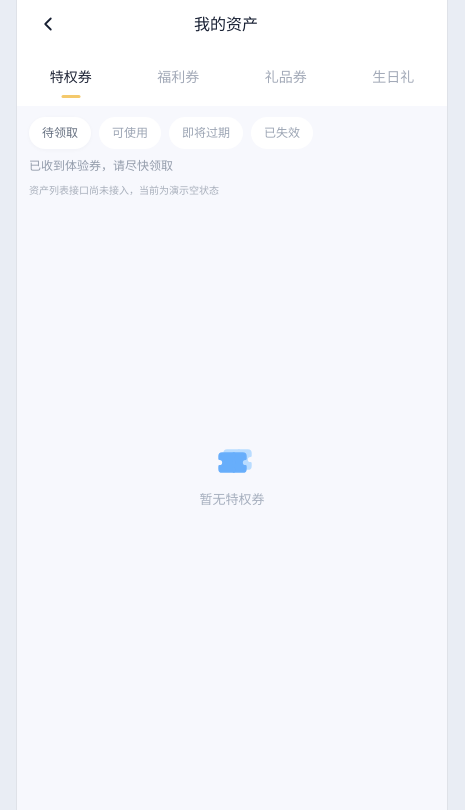
mobile assets page › switches asset categories and status filters with matching empty states
This screenshot has width=465, height=810.
Expected: the element with class "asset-empty" reads "暂无特权券", [200, 491, 264, 507]
Expected: the text with class "asset-data-note" shows "接口尚未接入", [29, 184, 219, 196]
Click the button "福利券": (178, 77) [124, 48, 232, 106]
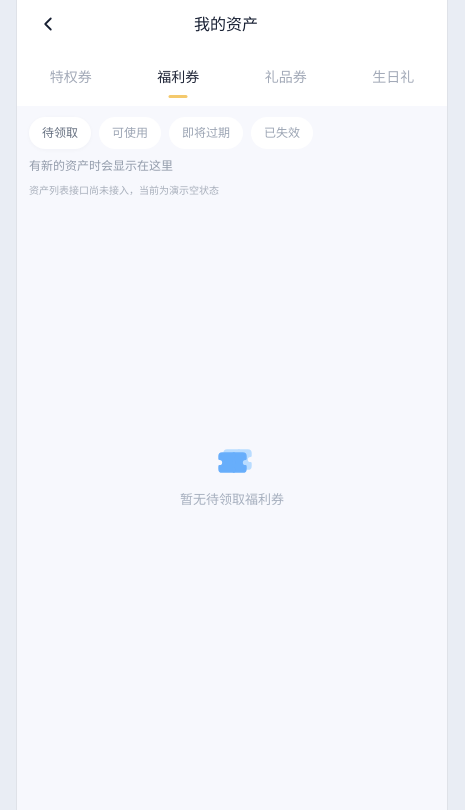
Click the button "可使用": (130, 133) [99, 117, 161, 149]
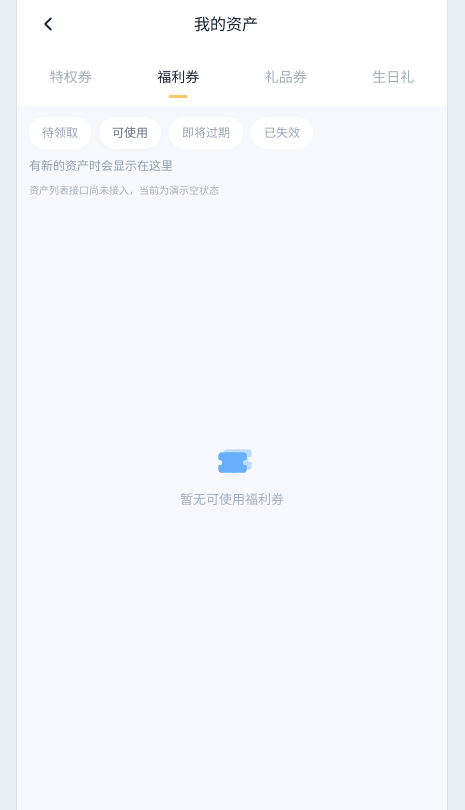
Result: the element with class "asset-empty" reads "暂无可使用福利券" at [180, 491, 284, 507]
